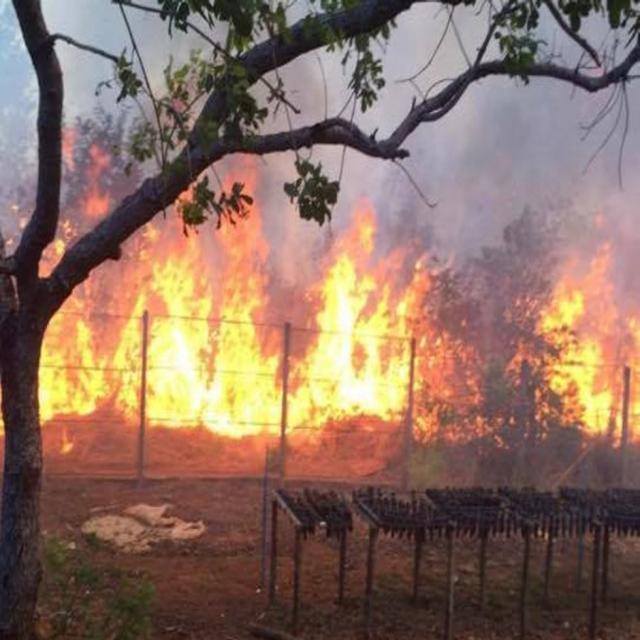Fire: (288, 205, 479, 442), (531, 215, 640, 441), (202, 144, 282, 443), (0, 207, 105, 430), (108, 251, 202, 427), (504, 298, 553, 388), (84, 144, 118, 217), (170, 79, 206, 135), (471, 411, 518, 448), (61, 126, 78, 174), (58, 424, 77, 452)
Smoke: (387, 45, 640, 250)
